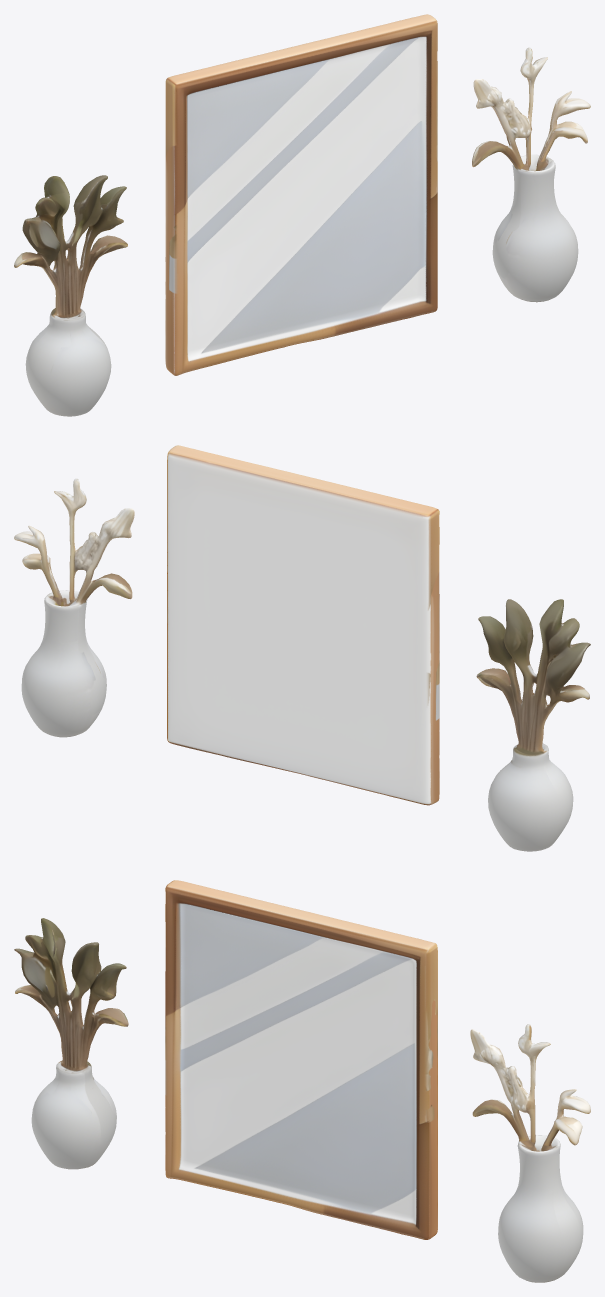
File: base_basic_shaded.glb
The picture shows the model from 3 angles, top to bottom: view 1: azimuth 30°, elevation 25°; view 2: azimuth 150°, elevation 25°; view 3: azimuth 330°, elevation 25°; orthographic projection.
Parts seen in each view (by area): view 1: model; view 2: model; view 3: model.
Boxes of the visible parts, <box> form: model: <box>14,14,590,416</box>; model: <box>14,445,590,851</box>; model: <box>14,880,590,1282</box>.
Size of the model in its own units: 1.9 by 0.9648 by 0.248.
1 material, 1 textured.
